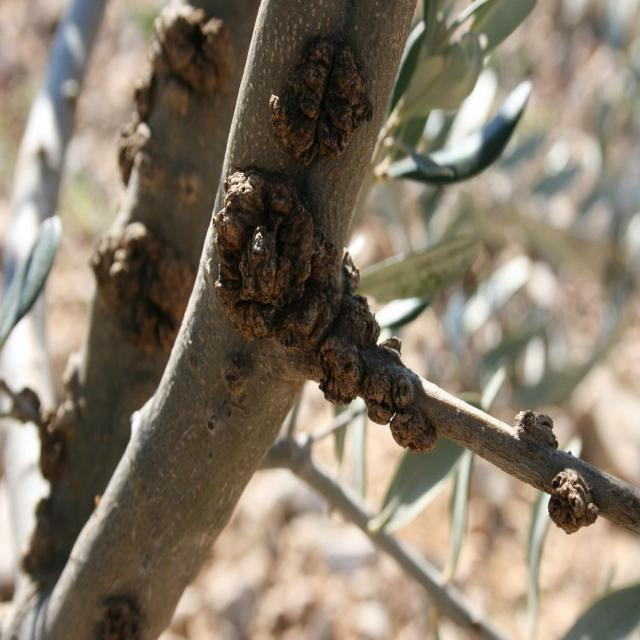Tuberculosis: (216, 169, 438, 452), (270, 36, 374, 166), (548, 468, 599, 534), (513, 409, 558, 448)
